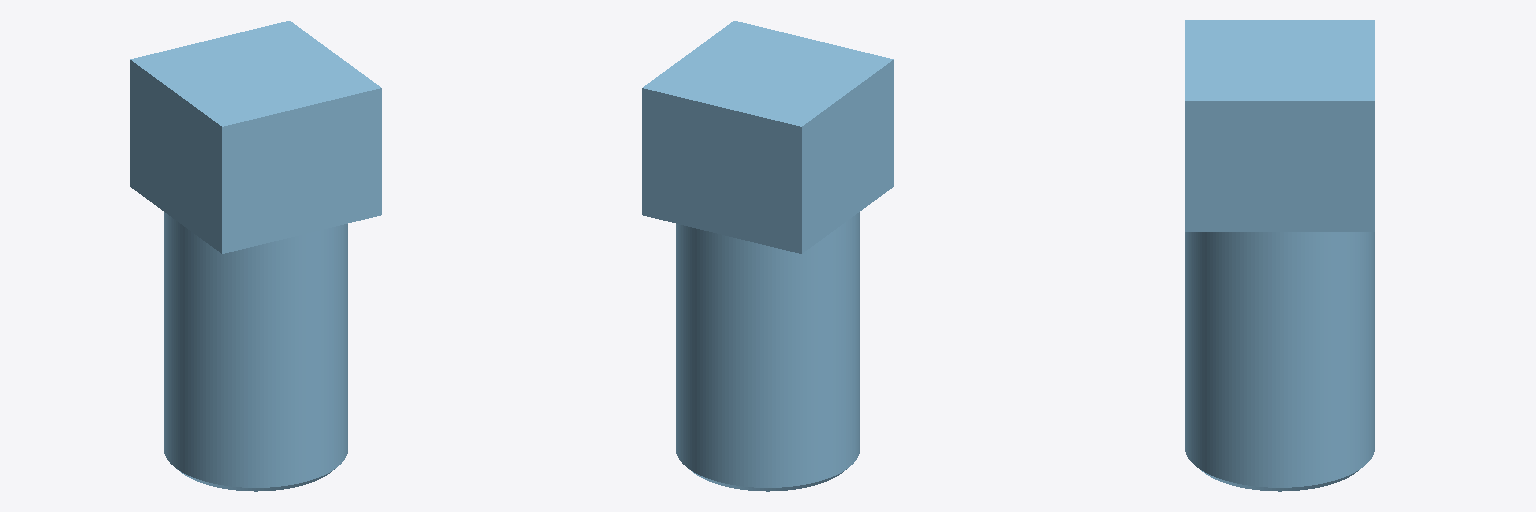
URDF robot description (assembly_1):
<!--URDF generated by ONSHAPE BY PTC INC, 1.224-->
<robot name="assembly_1">
    <link name="root">
        <inertial>
            <mass value="3.05703e-05" />
            <origin xyz="7.19807e-19 -5.85078e-19 -0.00789747" rpy="0 -0 0" />
            <inertia ixx="9.87641e-09" ixy="0" ixz="0" iyy="9.87641e-09" iyz="0" izz="2.69569e-09" />
        </inertial>
        <visual>
            <origin xyz="0 0 0" rpy="0 -0 0" />
            <geometry>
                <mesh filename="package://assembly_1/meshes/Part_1.stl" scale="1 1 1" />
            </geometry>
            <material name="0.615686_0.811765_0.929412_0.000000_0.000000">
                <color rgba="0.615686 0.811765 0.929412 1" />
            </material>
        </visual>
    </link>
</robot>

--- Facts derived from the render (not from the file) ---
Views: 3 orthographic renders of the robot side by side, from view 1: azimuth 30°, elevation 25°; view 2: azimuth 150°, elevation 25°; view 3: azimuth 270°, elevation 25°.
Model assembly_1 with 1 links and 0 joints (none), rooted at root, posed every joint at zero.
Links seen in each view (by area): view 1: root; view 2: root; view 3: root.
Link boxes in pixels (box(x1,y1,x2,y2)): root: box(130, 21, 381, 491); root: box(642, 21, 893, 491); root: box(1185, 20, 1374, 491).
Bounding box of the posed robot: 0.025 × 0.025 × 0.0571 m (x, y, z).
1 mesh visuals loaded from 1 distinct referenced files (1 binary STL).
